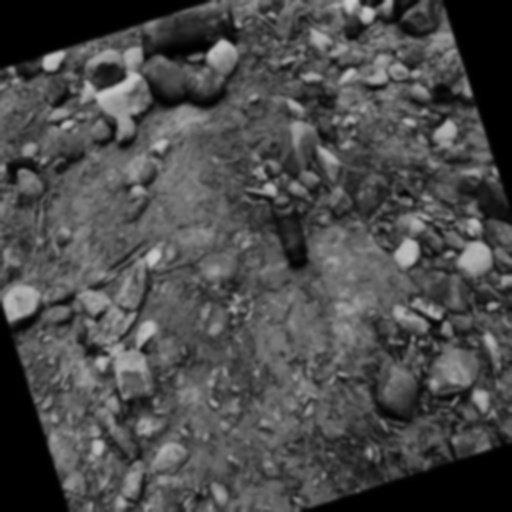bottle: (266, 191, 316, 271)
